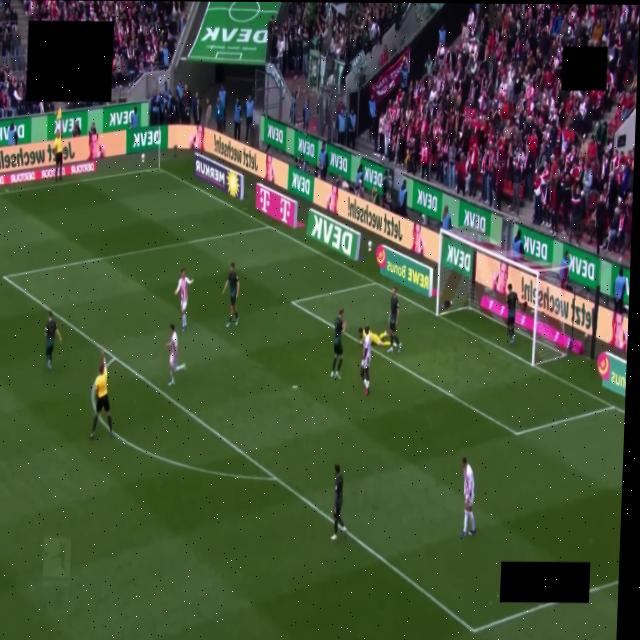player: (165, 324, 185, 384), (174, 268, 193, 330), (331, 465, 346, 540), (222, 263, 239, 328), (460, 458, 474, 536), (330, 308, 345, 378), (44, 311, 61, 368), (387, 288, 400, 352), (360, 326, 371, 395), (506, 284, 517, 344), (358, 328, 388, 346)
referee: (90, 350, 112, 439)
